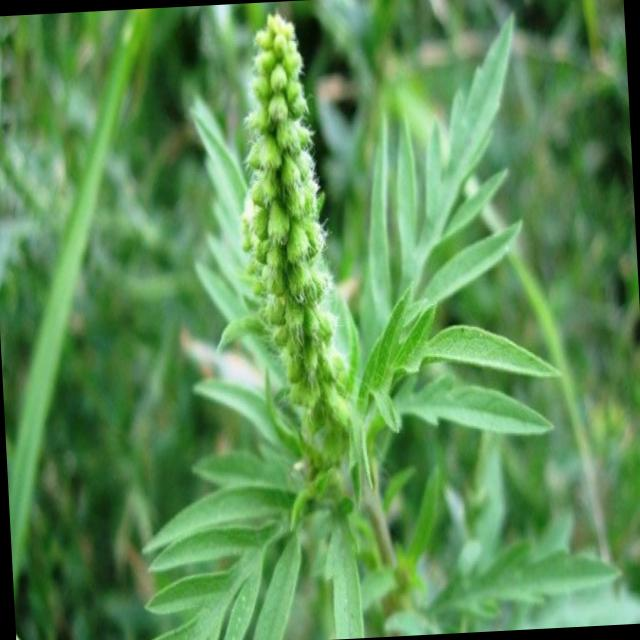ambrosia: (210, 0, 380, 526)
